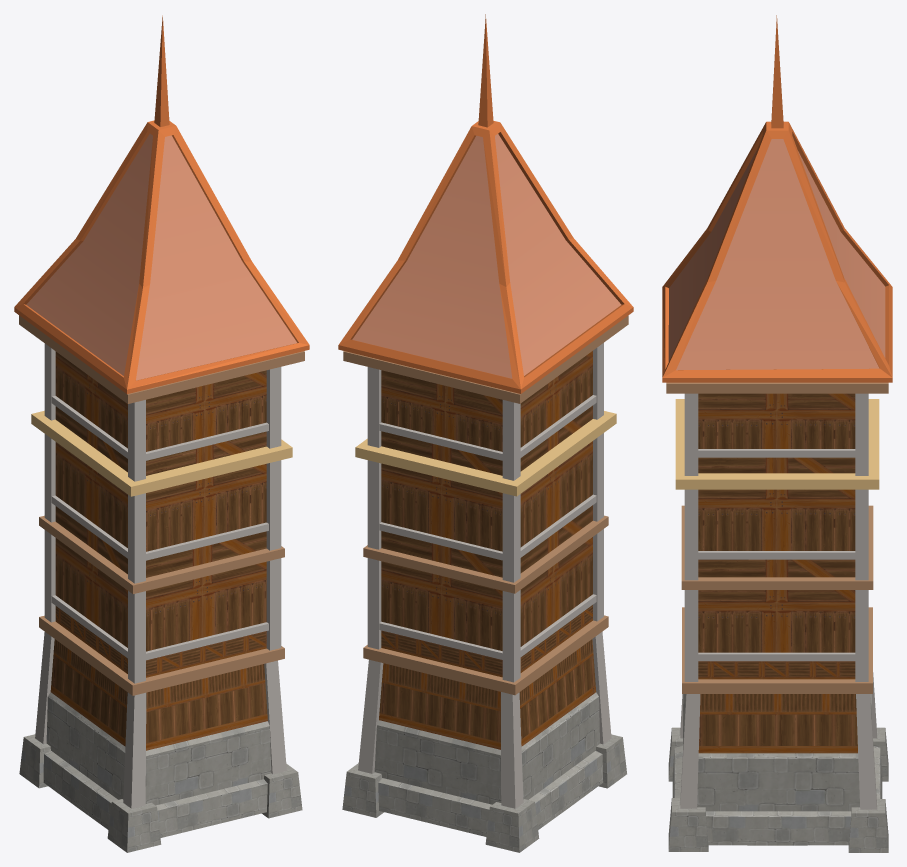
Rendered from Building_B_05.fbx.
3 views of the same model, side by side, from view 1: azimuth 30°, elevation 25°; view 2: azimuth 150°, elevation 25°; view 3: azimuth 270°, elevation 25° (orthographic). The views are drawn at different scales.
Parts seen in each view (by area): view 1: Building_B_05; view 2: Building_B_05; view 3: Building_B_05.
Boxes of the visible parts, <box> form: Building_B_05: <box>14,15,309,852</box>; Building_B_05: <box>338,14,633,852</box>; Building_B_05: <box>662,15,892,852</box>.
Bounding box in the file's own units: 767 × 3123 × 820.
